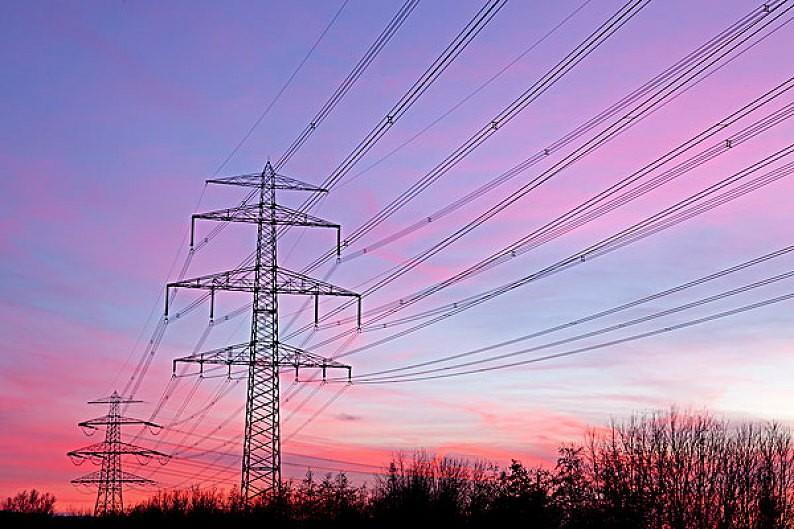power_tower: (163, 158, 368, 506), (75, 384, 163, 514)
